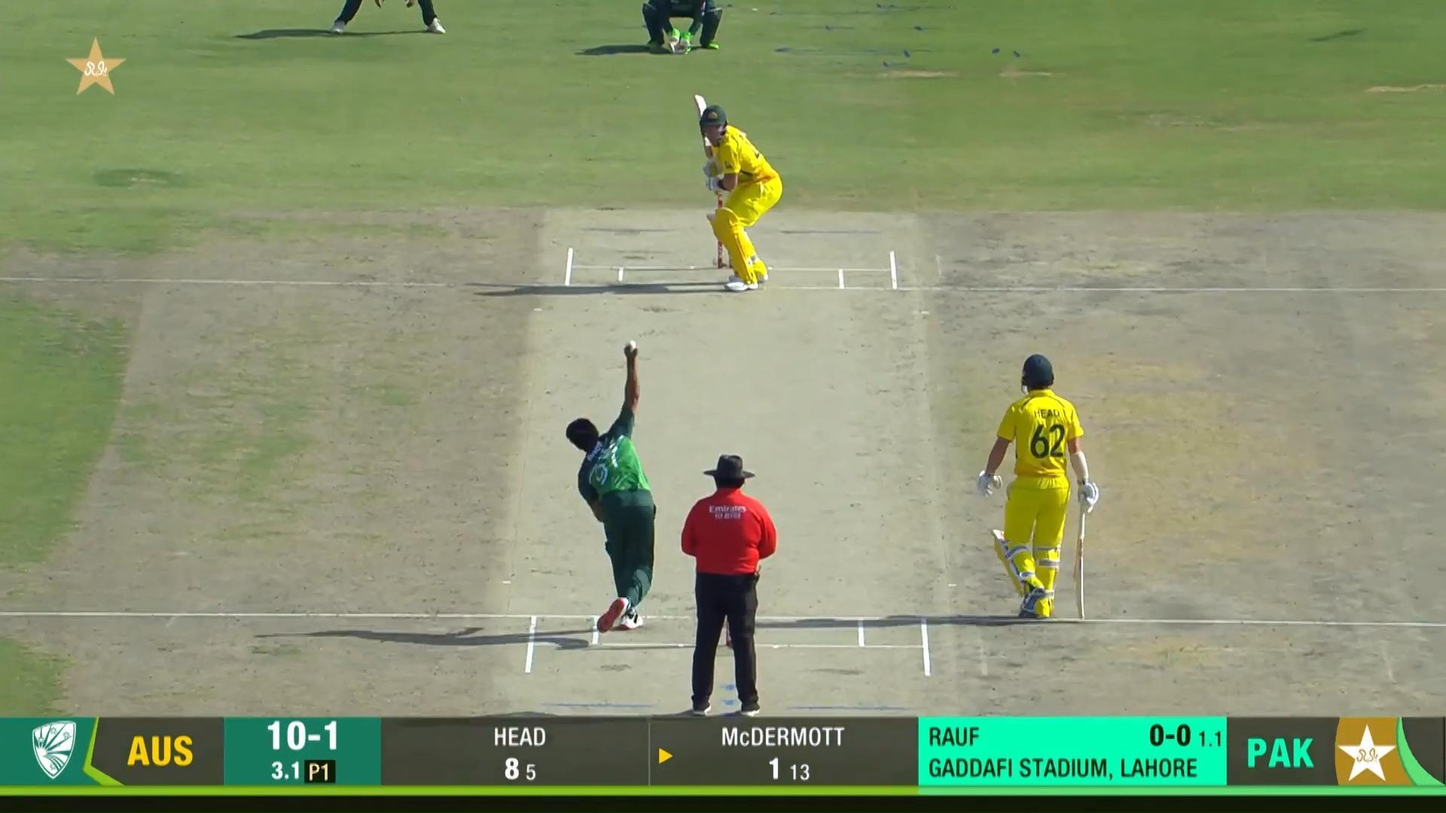BM 1: (692, 92, 784, 293)
BO: (564, 336, 659, 634)
